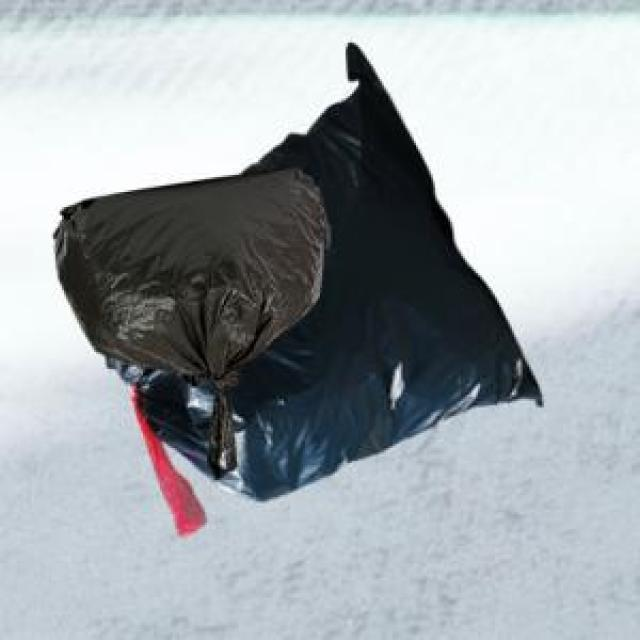waste: (55, 44, 542, 498)
